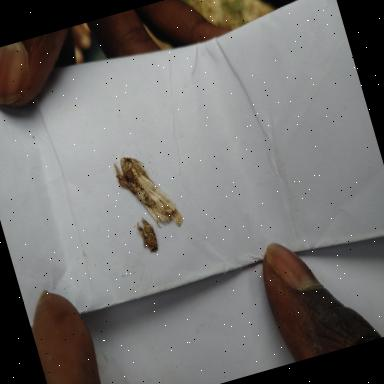pbw: (122, 171, 160, 218), (134, 215, 160, 256)
